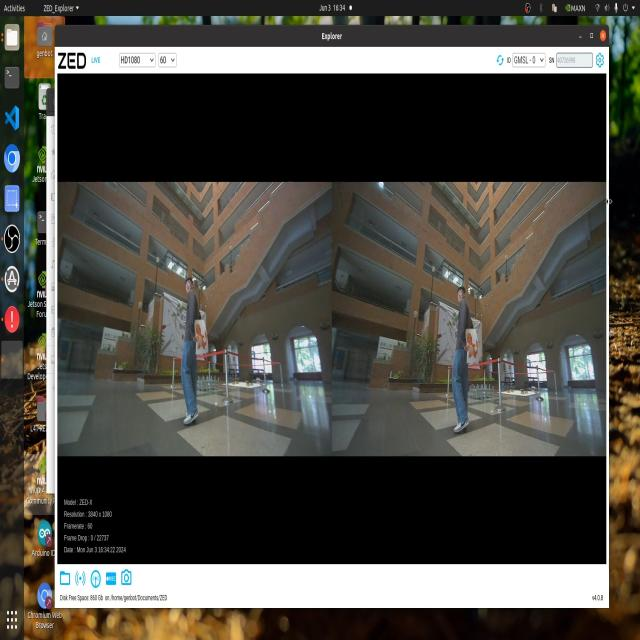red: (462, 333, 483, 369), (194, 321, 208, 356)
